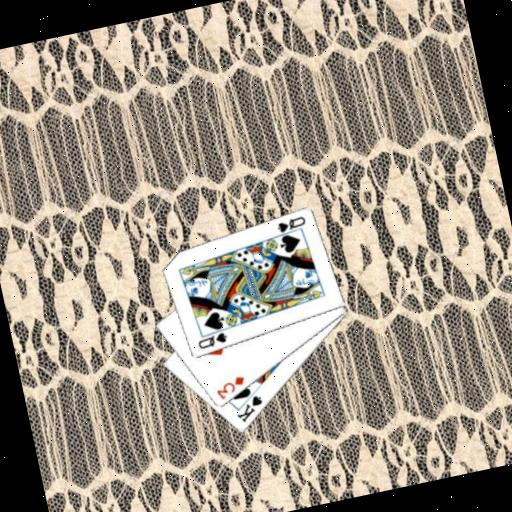3D: (210, 372, 249, 402)
KS: (230, 391, 268, 426)
QS: (193, 329, 230, 352), (273, 212, 308, 235)
